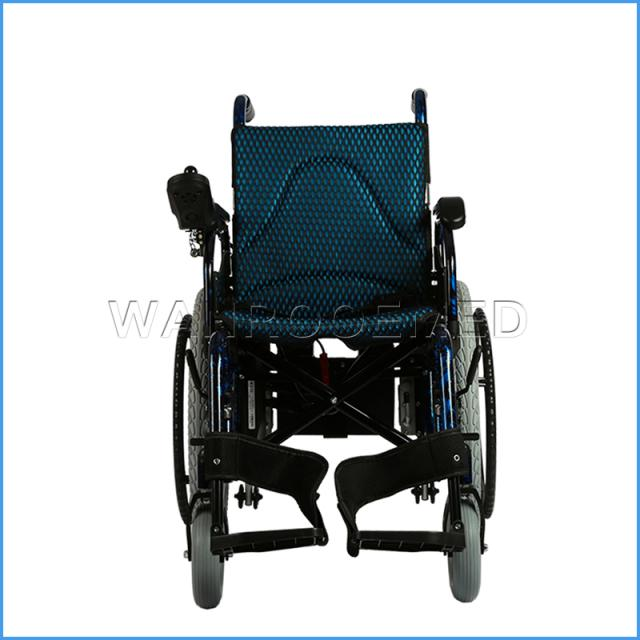wheelchairs: (160, 85, 506, 600)
